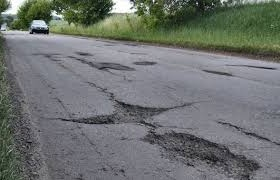pothole: (119, 135, 260, 173), (57, 97, 184, 128), (80, 58, 137, 71), (228, 62, 278, 70), (194, 68, 234, 76), (30, 52, 59, 58), (133, 59, 157, 66), (77, 50, 92, 56), (51, 57, 63, 63)
